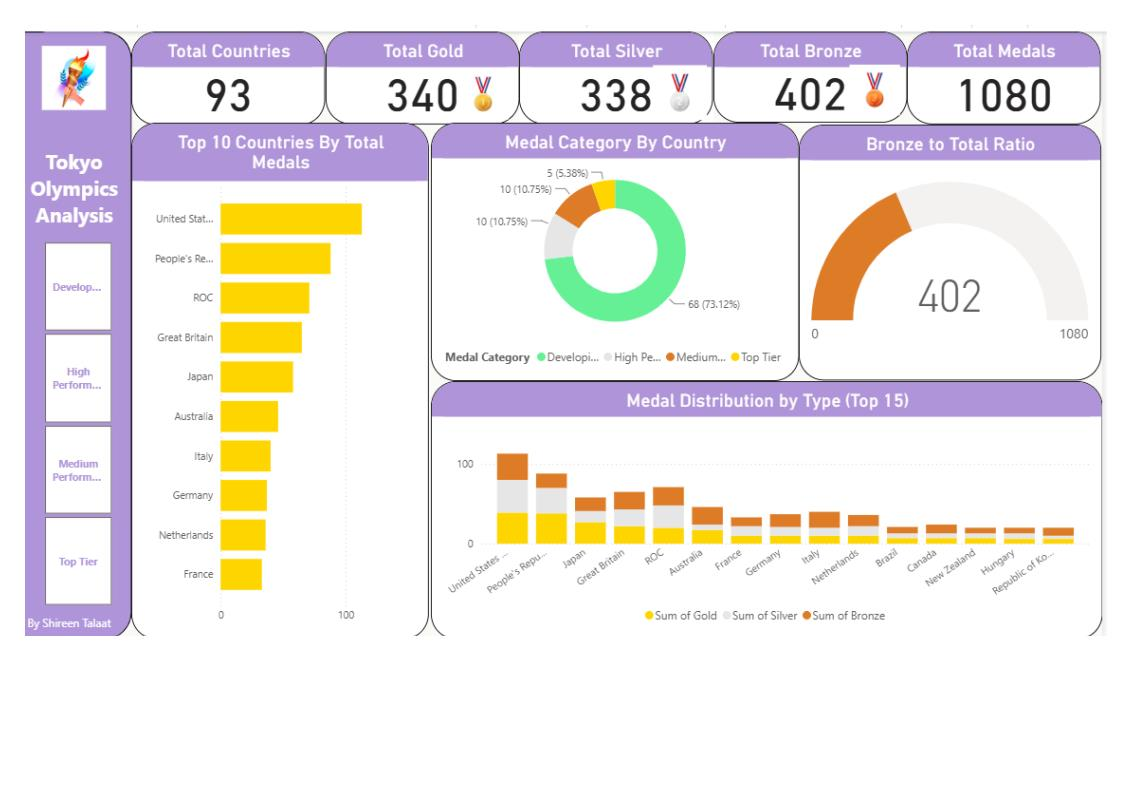

This screenshot's page, from the dashboard's own definition file:
{"tool":"powerbi","page":{"name":"Page 1","canvas":[1280,720],"ordinal":0},"visuals":[{"type":"card","title":"Total Countries","fields":{"Values":["Count(Tokyo Olympic.Team/NOC)"]},"box":[128.5,0,230,110.5],"z":0},{"type":"card","title":"Total Silver","fields":{"Values":["Sum(Tokyo Olympic.Silver)"]},"box":[588.6,0,230,110],"z":0,"group":"g2"},{"type":"card","title":"Total Medals","fields":{"Values":["Sum(Tokyo Olympic.Total)"]},"box":[1048.7,0,230,110],"z":1000},{"type":"image","box":[740.3,35,78.3,74.6],"z":1000,"group":"g2"},{"type":"group","id":"g1","title":"Group 1","box":[358.6,0,230,110.5],"z":2000},{"type":"card","title":"Total Gold","fields":{"Values":["Sum(Tokyo Olympic.Gold)"]},"box":[358.6,0,230,110],"z":2000,"group":"g1"},{"type":"group","id":"g2","title":"Group 2","box":[588.6,0,230,110.5],"z":3000},{"type":"card","title":"Total Bronze","fields":{"Values":["Sum(Tokyo Olympic.Bronze)"]},"box":[818.6,0,230,107.5],"z":3000,"group":"g3"},{"type":"group","id":"g3","title":"Group 3","box":[818.6,0,230,110.5],"z":4000},{"type":"image","box":[510,36.7,69.8,73.3],"z":4001,"group":"g1"},{"type":"image","box":[974.7,29.5,69.8,80.3],"z":4005,"group":"g3"},{"type":"shape","box":[0,0,128.7,720.3],"z":5000},{"type":"clusteredBarChart","title":"Top 10  Countries By Total  Medals","fields":{"Category":["Tokyo Olympic.Team/NOC"],"Y":["Sum(Tokyo Olympic.Total)"]},"box":[128.5,108,353.4,611.7],"z":6000},{"type":"columnChart","title":"Medal Distribution by Type (Top 15)","fields":{"Category":["Tokyo Olympic.Team/NOC"],"Y":["Sum(Tokyo Olympic.Gold)","Sum(Tokyo Olympic.Silver)","Sum(Tokyo Olympic.Bronze)"]},"box":[483.2,413.8,796.8,305.9],"z":7000},{"type":"slicer","fields":{"Values":["Tokyo Olympic.Medal Category"]},"box":[0,243,128.7,443.2],"z":8000},{"type":"donutChart","title":"Medal Category By Country","fields":{"Series":["Tokyo Olympic.Medal Category"],"Y":["CountNonNull(Tokyo Olympic.Team/NOC)"]},"box":[483.2,108,436.9,305.9],"z":9000},{"type":"gauge","title":"Bronze to Total Ratio","fields":{"Y":["Sum(Tokyo Olympic.Bronze)"],"MaxValue":["Sum(Tokyo Olympic.Total)"]},"box":[920.2,110.5,358.6,303.3],"z":10000},{"type":"textbox","box":[0,132,121,111.1],"z":11000},{"type":"textbox","box":[0,686.2,121,33],"z":12000},{"type":"image","box":[9.9,0,100,110],"z":12001}]}

Visuals, with their boxes in screenshot pixels (x1, y1, x2, y2):
"Total Countries" card: (left=128, top=29, right=319, bottom=121)
"Total Silver" card: (left=511, top=29, right=703, bottom=121)
"Total Medals" card: (left=895, top=29, right=1087, bottom=121)
image: (left=638, top=58, right=703, bottom=121)
"Group 1" group: (left=319, top=29, right=511, bottom=121)
"Total Gold" card: (left=319, top=29, right=511, bottom=121)
"Group 2" group: (left=511, top=29, right=703, bottom=121)
"Total Bronze" card: (left=703, top=29, right=895, bottom=119)
"Group 3" group: (left=703, top=29, right=895, bottom=121)
image: (left=446, top=60, right=504, bottom=121)
image: (left=833, top=54, right=891, bottom=121)
shape: (left=20, top=29, right=128, bottom=630)
"Top 10  Countries By Total  Medals" clusteredBarChart: (left=128, top=119, right=422, bottom=629)
"Medal Distribution by Type (Top 15)" columnChart: (left=423, top=374, right=1088, bottom=629)
slicer - Tokyo Olympic.Medal Category: (left=20, top=232, right=128, bottom=601)
"Medal Category By Country" donutChart: (left=423, top=119, right=788, bottom=374)
"Bronze to Total Ratio" gauge: (left=788, top=121, right=1087, bottom=374)
textbox: (left=20, top=139, right=121, bottom=232)
textbox: (left=20, top=601, right=121, bottom=629)
image: (left=29, top=29, right=112, bottom=121)
